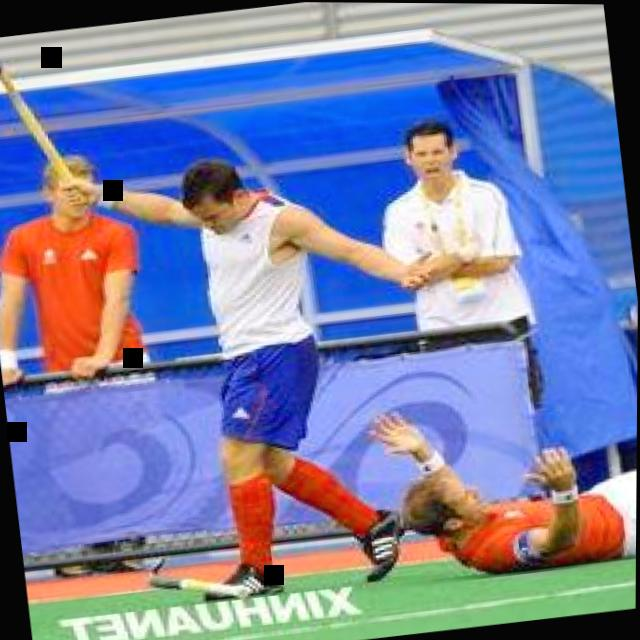Fall-Detected: (345, 355, 638, 589)
